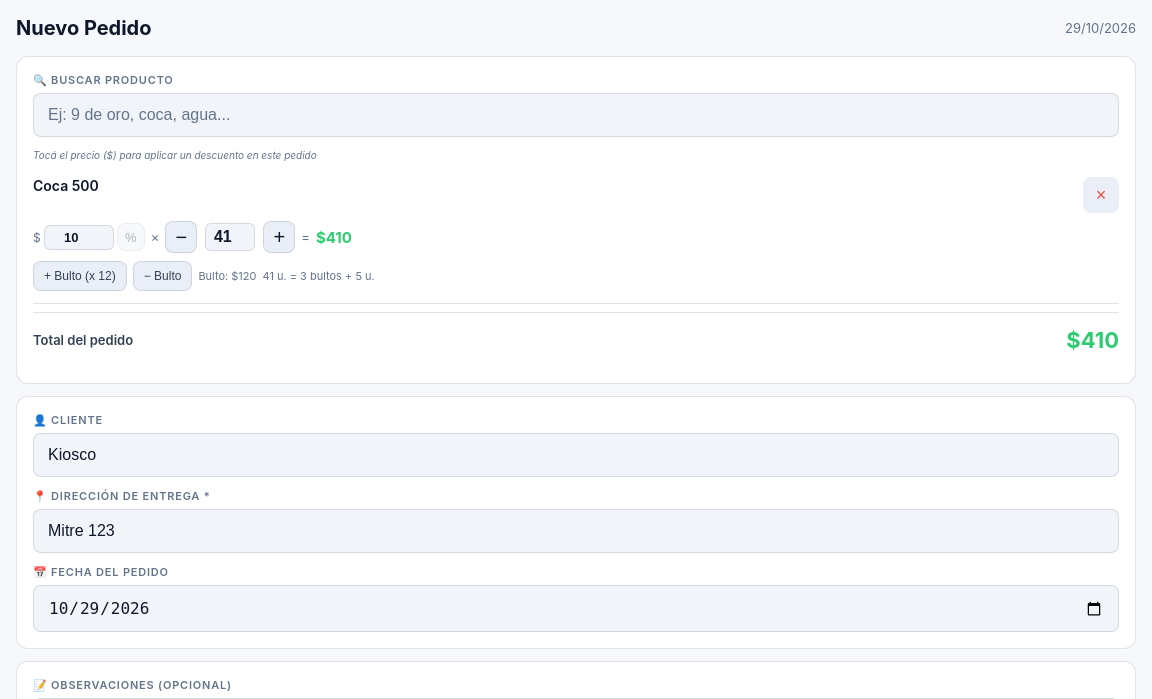
Test: REQ-BUL Nuevo Pedido › AC-BUL-3 "− Bulto" desde 41 deja 29
Click the button with test id "bulto-menos".
click(163, 276)  # box [133,261,192,291]
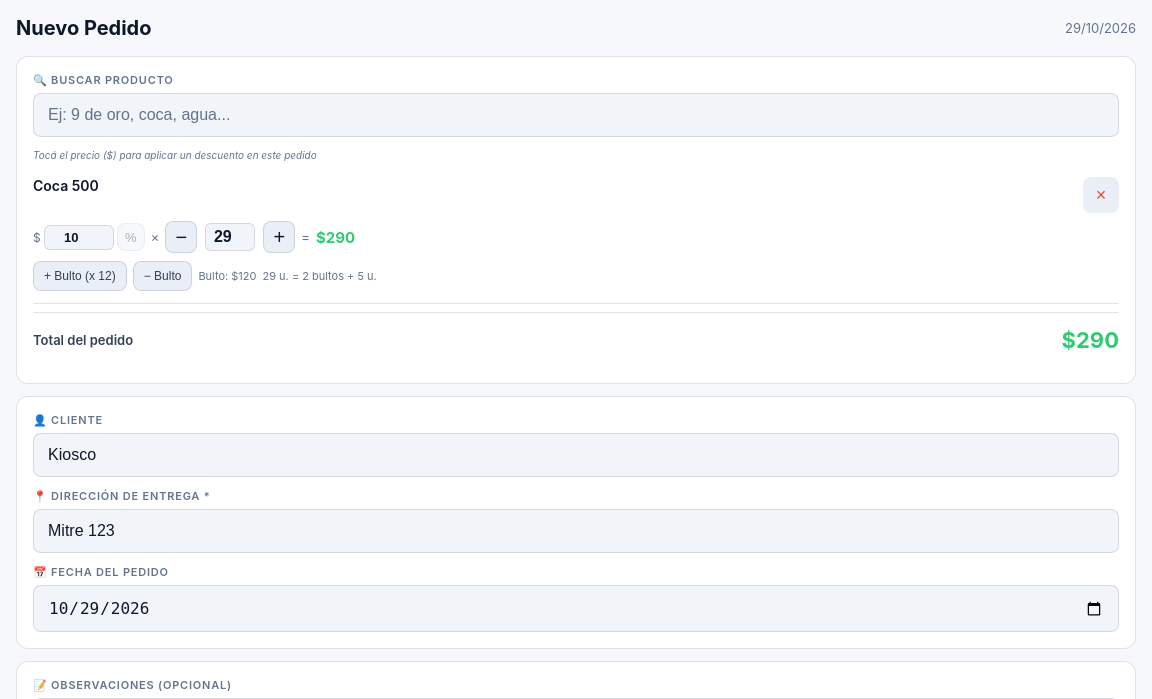
Now the 2nd number field holds "29", box [205,223,255,251]
